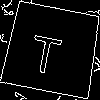T: (27, 24, 65, 76)
